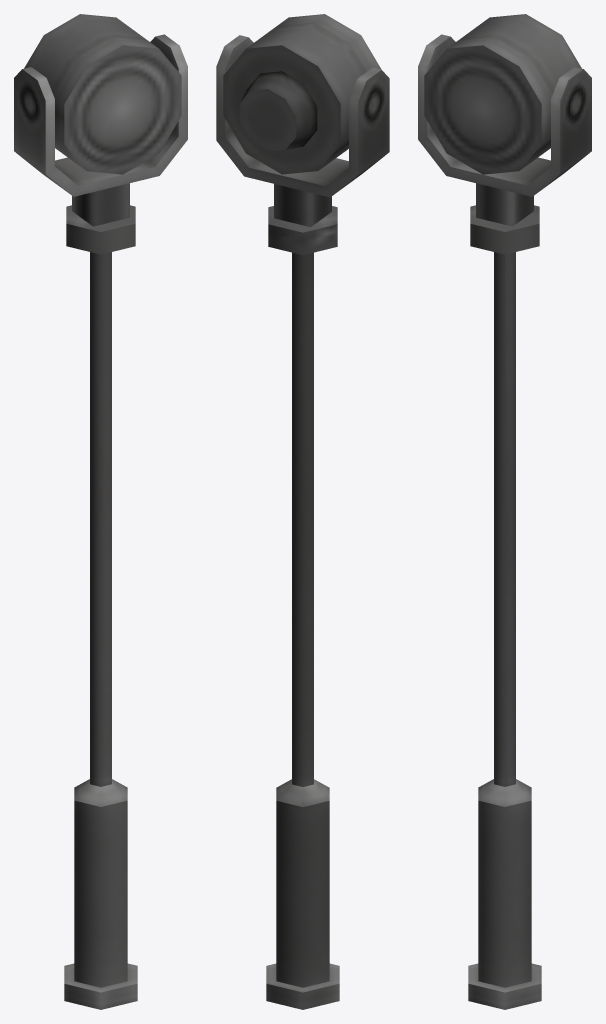
File: Projector_Pole.FBX
3 renders of one model, left to right at view 1: azimuth 30°, elevation 25°; view 2: azimuth 150°, elevation 25°; view 3: azimuth 330°, elevation 25°, orthographic.
Visible parts, largest first — view 1: Projector_Pole, Projector, Projector_Base; view 2: Projector_Pole, Projector, Projector_Base; view 3: Projector_Pole, Projector, Projector_Base.
Part boxes in pixels (x1,y1,x2,y2): Projector_Pole: [64, 183, 137, 1009]; Projector: [24, 14, 181, 174]; Projector_Base: [14, 34, 187, 196]; Projector_Pole: [266, 184, 339, 1009]; Projector: [223, 14, 381, 174]; Projector_Base: [216, 35, 389, 197]; Projector_Pole: [468, 183, 541, 1009]; Projector: [424, 14, 581, 174]; Projector_Base: [418, 34, 591, 196].
Bounding box in the file's own units: 153 × 991 × 106.
